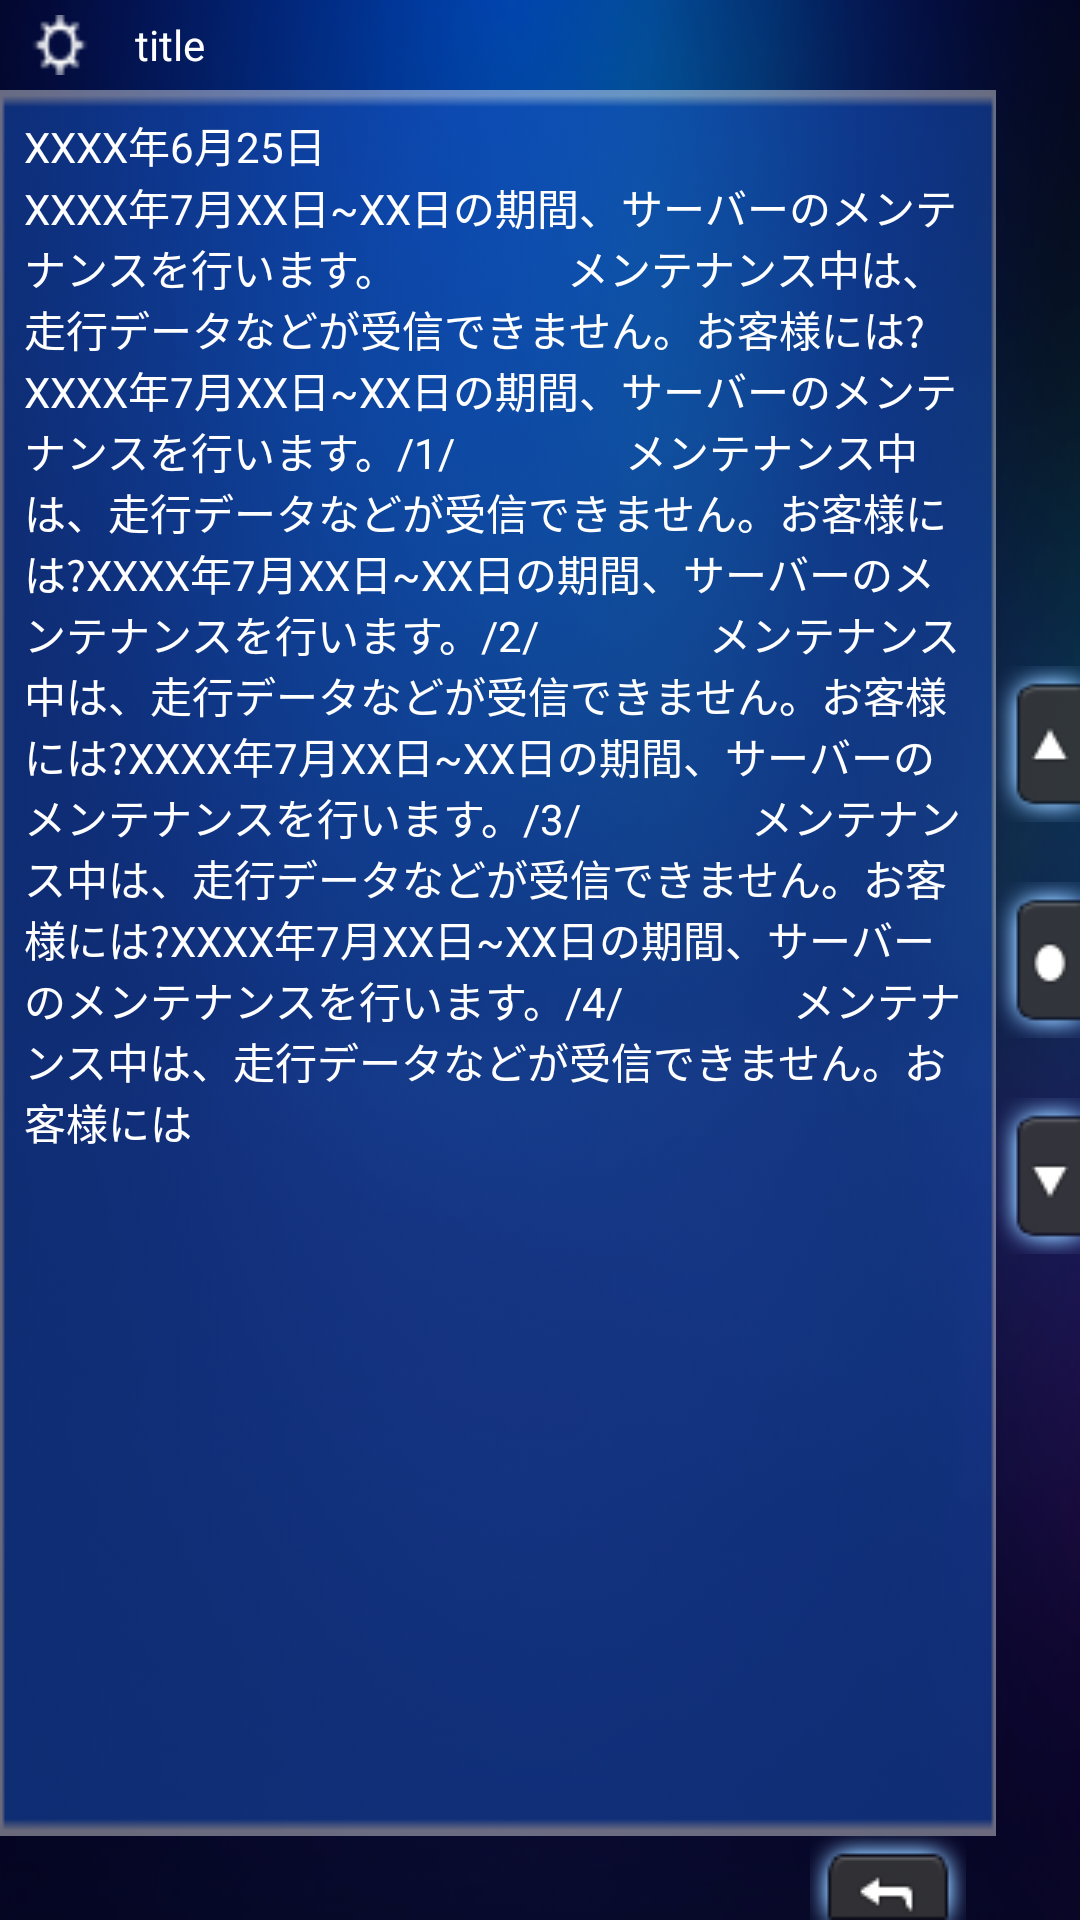

Point at icon controls on the screen. Image size 1080w x 1920h, points as (x=x, y=y).
sub setting: (x=60, y=45)
tag menu main back: (x=888, y=1878)
tag menu main enter: (x=1038, y=960)
tag menu main movedown: (x=1038, y=1176)
tag menu main moveup: (x=1038, y=744)
